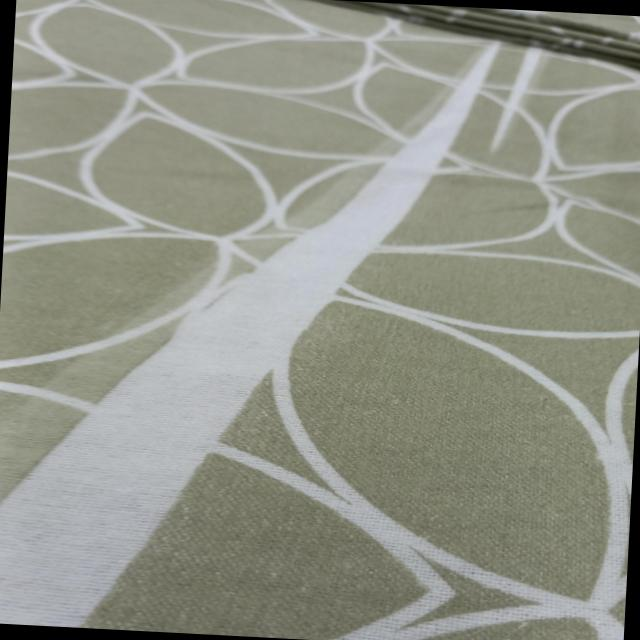selvet: (0, 6, 555, 640)
